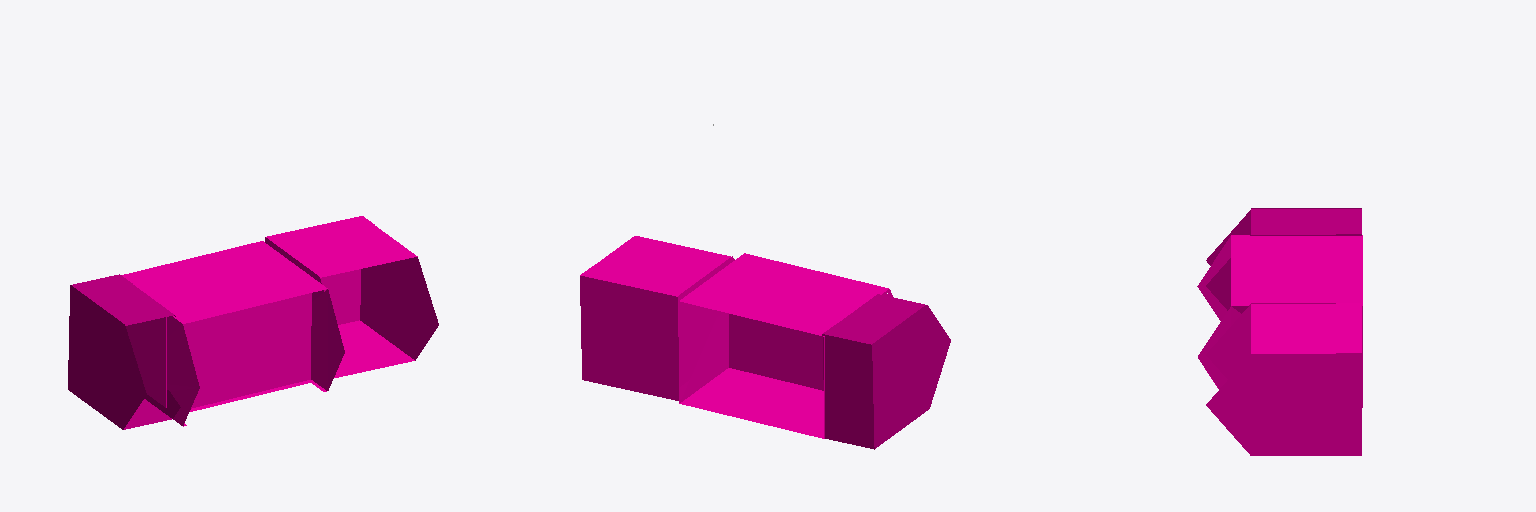
The model's file is purple.obj.
3 renders of one model, left to right at view 1: azimuth 30°, elevation 25°; view 2: azimuth 150°, elevation 25°; view 3: azimuth 270°, elevation 25°, orthographic.
Visible parts, largest first — view 1: Object.3, Object.2, Object.4; view 2: Object.3, Object.2, Object.4; view 3: Object.2, Object.3, Object.4.
Part boxes in pixels (x1,y1,x2,y2): Object.3: (122,241,344,426); Object.2: (265,216,438,377); Object.4: (68,274,180,429); Object.3: (679,253,893,438); Object.2: (580,236,734,400); Object.4: (822,294,950,449); Object.2: (1206,303,1361,455); Object.3: (1197,235,1362,407); Object.4: (1206,208,1361,313).
Bounding box in the file's own units: 109 × 91.46 × 52.86.